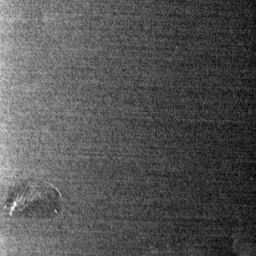con: (2, 178, 65, 220)
